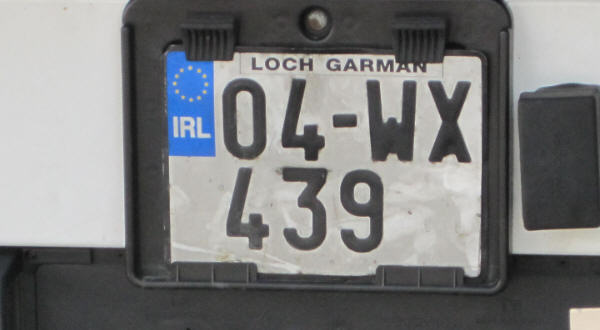license_plate: (162, 45, 487, 282)
